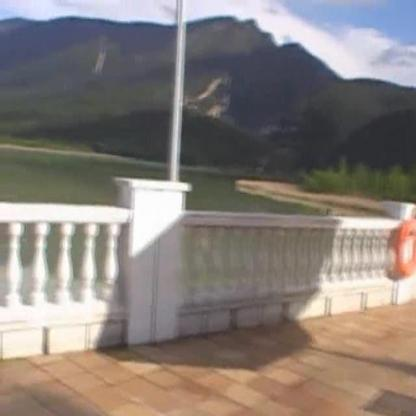other: (382, 199, 412, 292)
